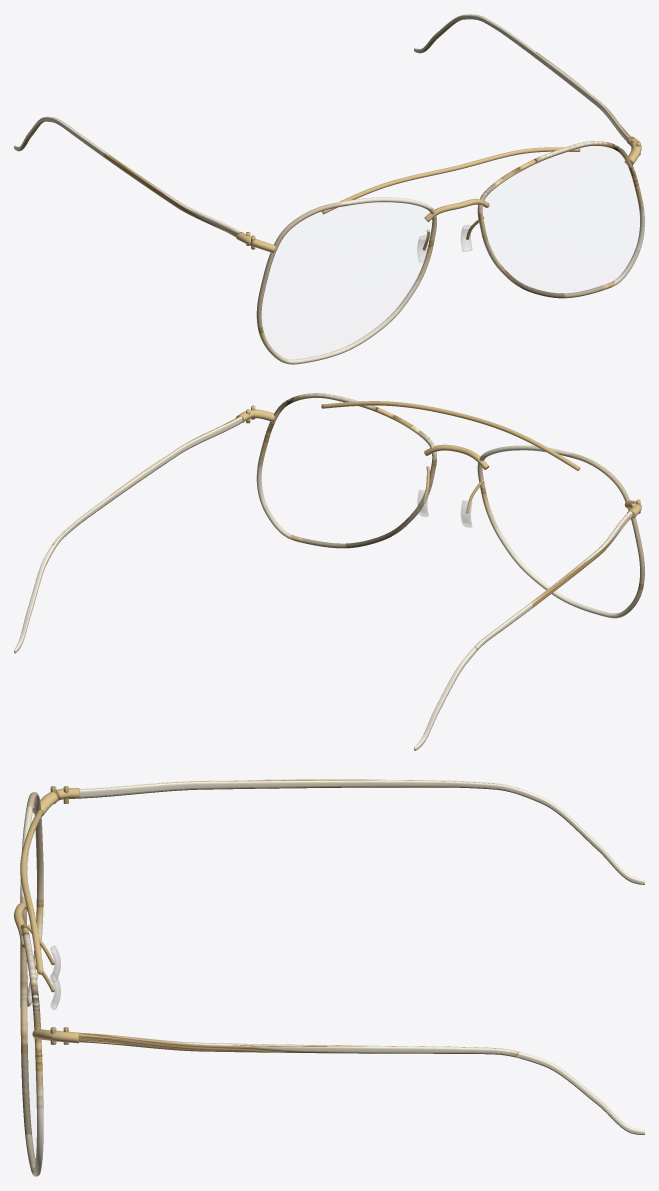
File: prod-new-1.glb
3 renders of one model, top to bottom at view 1: azimuth 30°, elevation 25°; view 2: azimuth 150°, elevation 25°; view 3: azimuth 270°, elevation 25°, orthographic. The views are drawn at different scales.
Visible parts, largest first — view 1: Fine metal full rim -1, Fine metal full rim 1, Fitted temple exterior -1, Fitted temple exterior 1, Upper double bridge; view 2: Fine metal full rim -1, Fine metal full rim 1, Fitted temple exterior 1, Fitted temple exterior -1, Upper double bridge; view 3: Fitted temple exterior -1, Fitted temple exterior 1, Fine metal full rim 1, Fine metal full rim -1, Upper double bridge.
Boxes of the visible parts, box(x1,y1,x2,y2) form: Fine metal full rim -1: box(256, 197, 436, 364); Fine metal full rim 1: box(477, 141, 644, 298); Fitted temple exterior -1: box(14, 116, 240, 236); Fitted temple exterior 1: box(414, 14, 630, 140); Upper double bridge: box(321, 147, 580, 214); Fine metal full rim -1: box(477, 445, 644, 618); Fine metal full rim 1: box(256, 393, 436, 548); Fitted temple exterior 1: box(14, 416, 242, 653); Fitted temple exterior -1: box(414, 511, 632, 750); Upper double bridge: box(321, 401, 580, 470); Fitted temple exterior -1: box(69, 779, 644, 884); Fitted temple exterior 1: box(79, 1032, 644, 1134); Fine metal full rim 1: box(20, 924, 43, 1176); Fine metal full rim -1: box(20, 792, 43, 1006); Upper double bridge: box(20, 809, 43, 974).
Bounding box in the file's own units: 0.1482 × 0.054 × 0.1472.
Materials: 7 (3 with a texture image).
